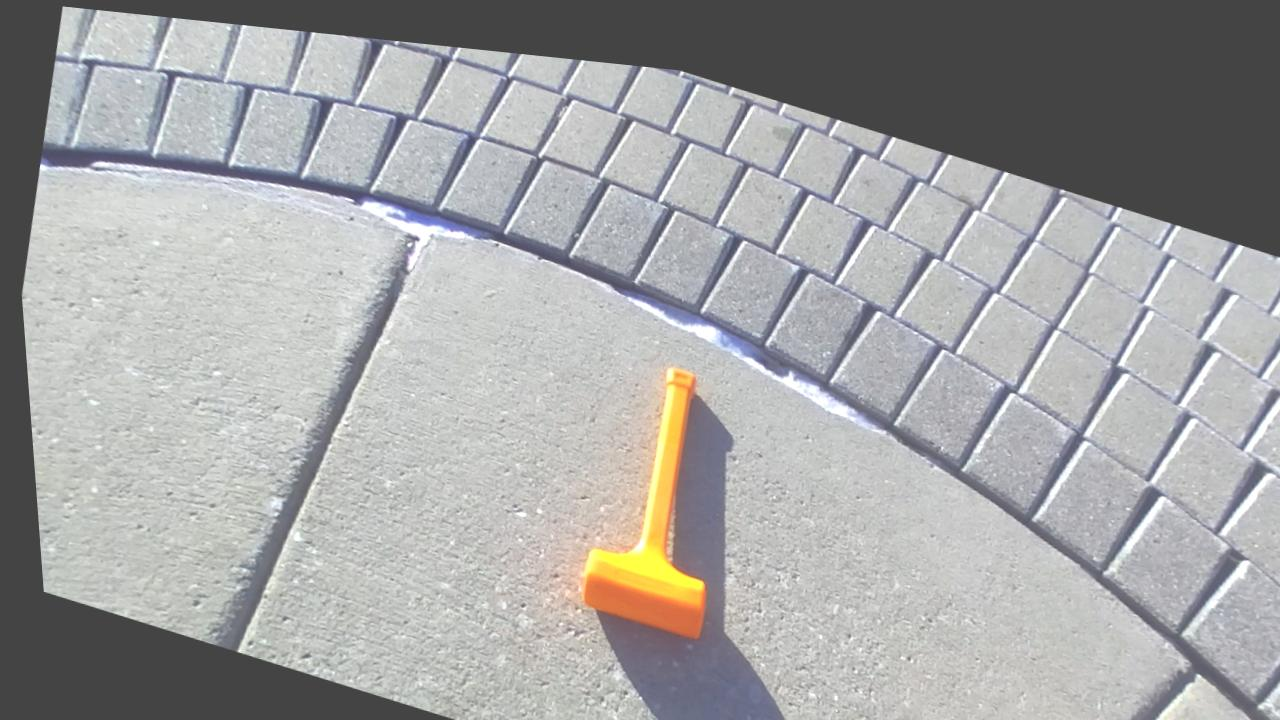mallet: (581, 368, 705, 638)
